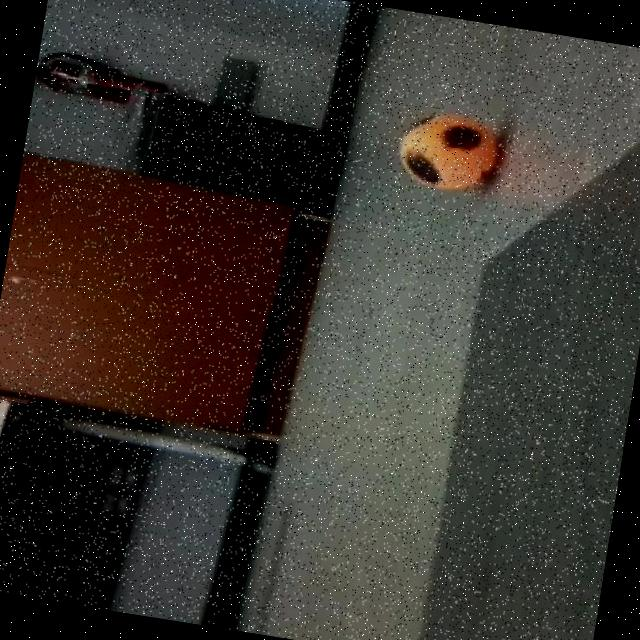ping-pong-ball: (382, 98, 509, 204)
